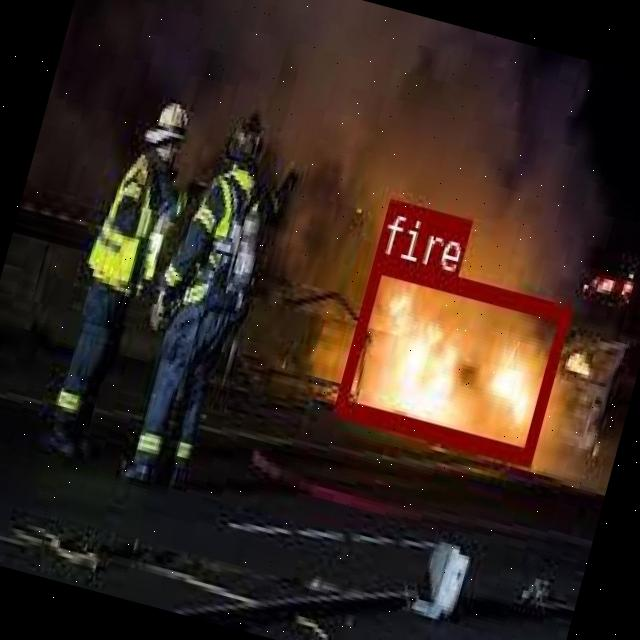fire: (334, 252, 570, 462)
